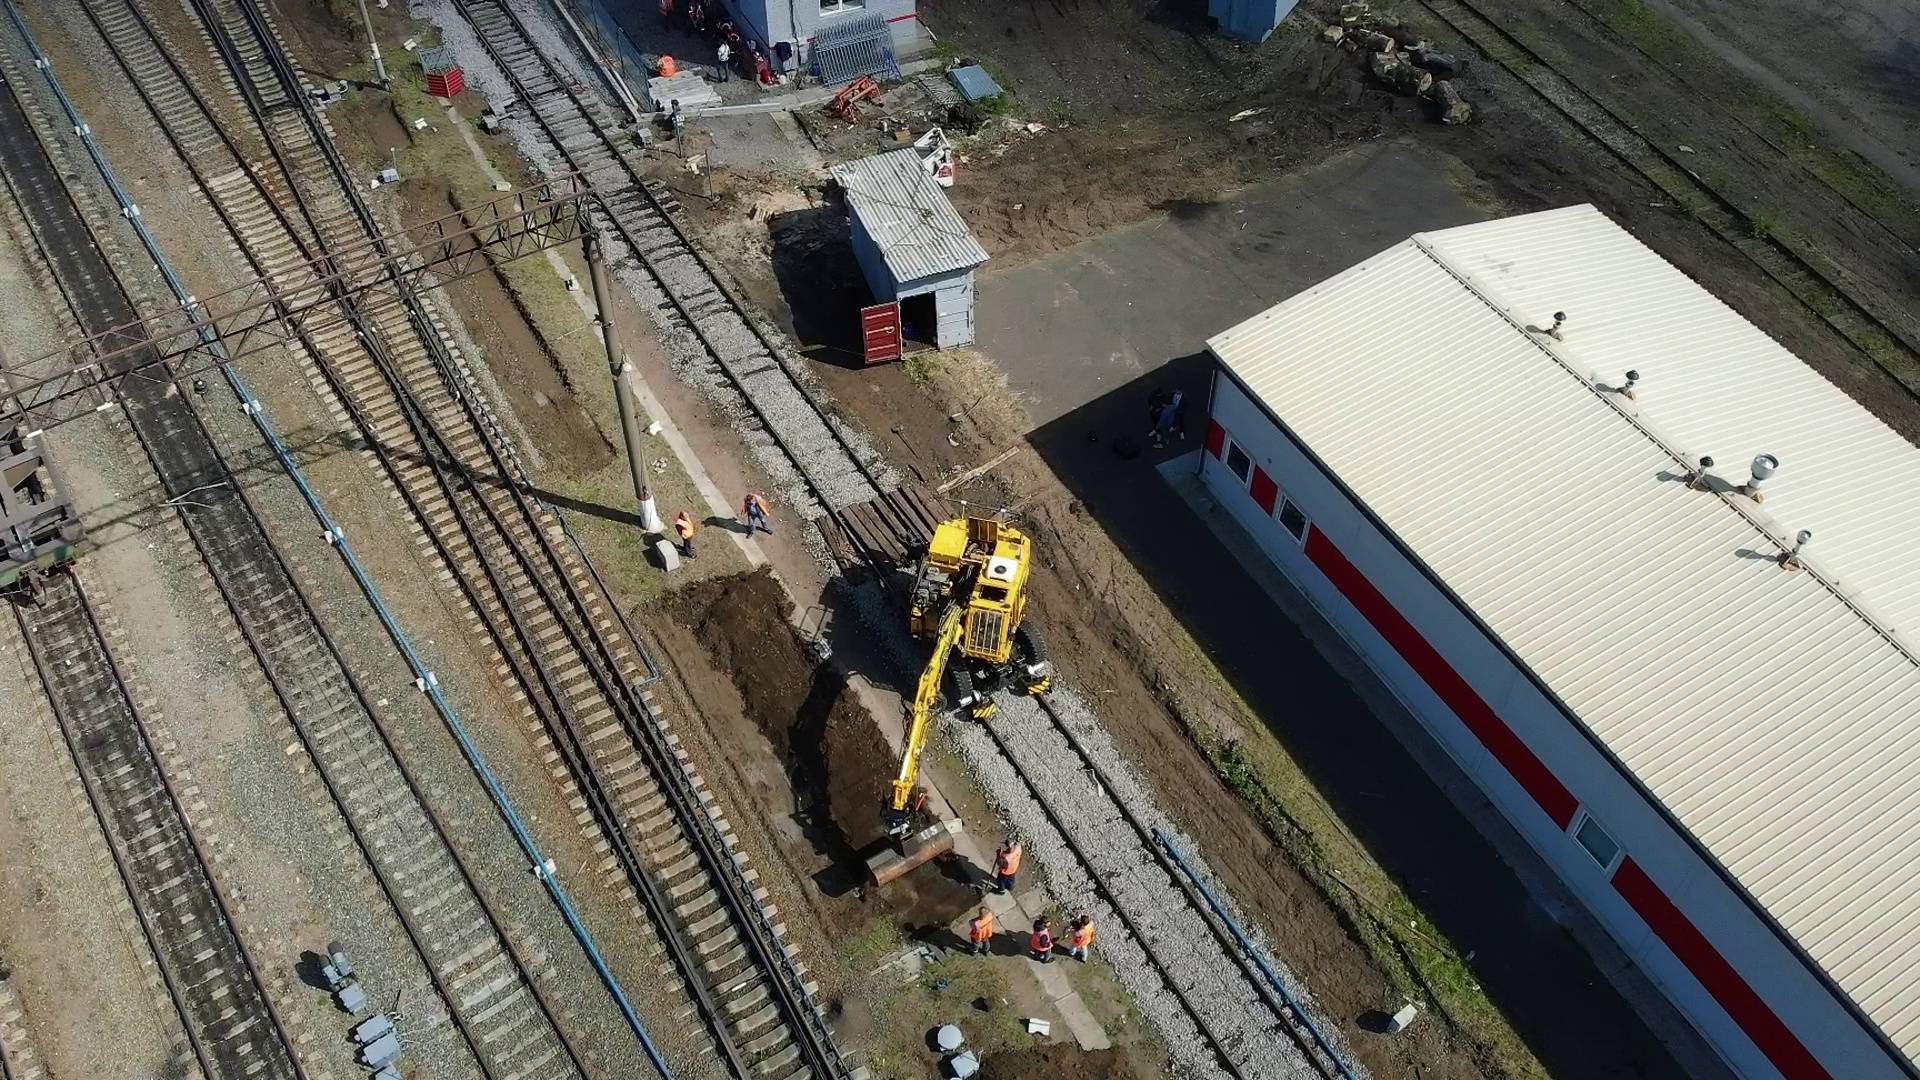kjtv: (899, 502, 1050, 717)
